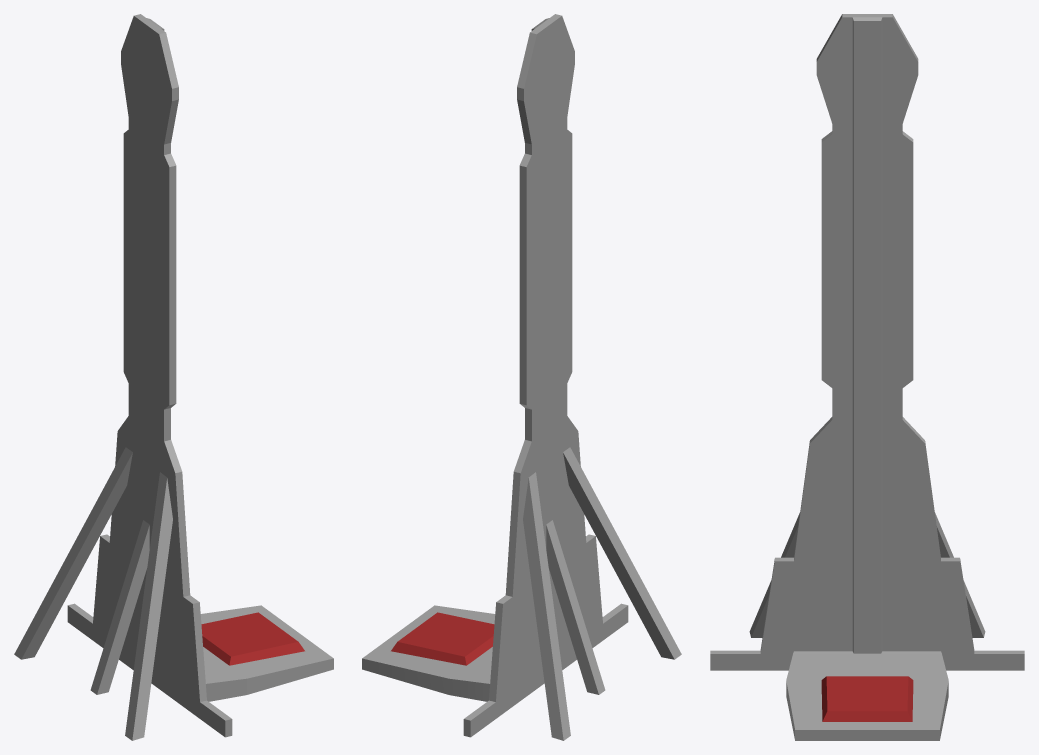
File: SM_Striker.fbx
The picture shows the model from 3 angles, left to right: view 1: azimuth 30°, elevation 25°; view 2: azimuth 150°, elevation 25°; view 3: azimuth 270°, elevation 25°; orthographic projection.
Parts seen in each view (by area): view 1: SM_Striker; view 2: SM_Striker; view 3: SM_Striker.
Boxes of the visible parts, x1,y1,x2,y2 form: SM_Striker: (14, 14, 333, 740); SM_Striker: (362, 14, 681, 740); SM_Striker: (710, 14, 1024, 740).
Size of the model in its own units: 1.39 by 3.88 by 1.69.
